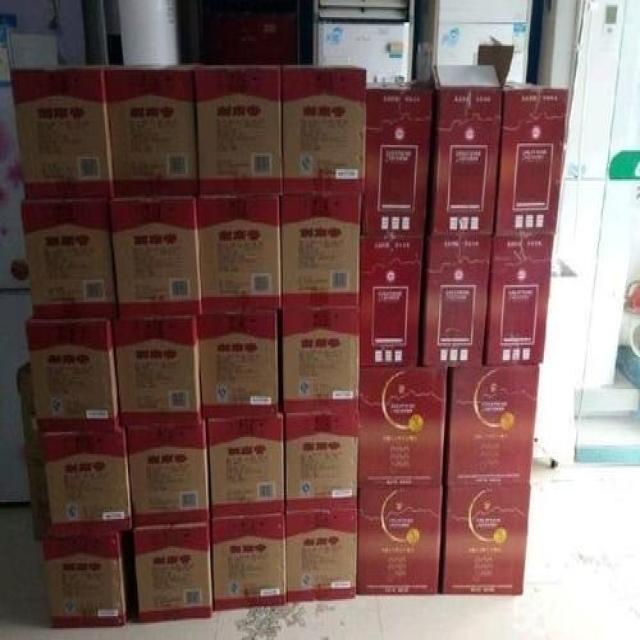box: (11, 65, 115, 198), (426, 64, 502, 236), (105, 65, 199, 198), (192, 64, 284, 196), (494, 80, 570, 238), (444, 364, 541, 486), (23, 197, 118, 318), (361, 83, 435, 238), (109, 198, 201, 320), (281, 65, 367, 194), (27, 318, 123, 431), (359, 368, 446, 489), (196, 196, 282, 315), (439, 485, 532, 594), (40, 428, 132, 538), (111, 318, 203, 425), (357, 487, 445, 597), (422, 235, 493, 368), (124, 421, 211, 527), (42, 529, 135, 628), (282, 192, 361, 308), (485, 236, 556, 364), (197, 308, 278, 419), (360, 237, 424, 368), (205, 417, 285, 519), (283, 309, 359, 416), (133, 523, 212, 623), (283, 409, 358, 510), (210, 515, 287, 611), (285, 509, 356, 604)
